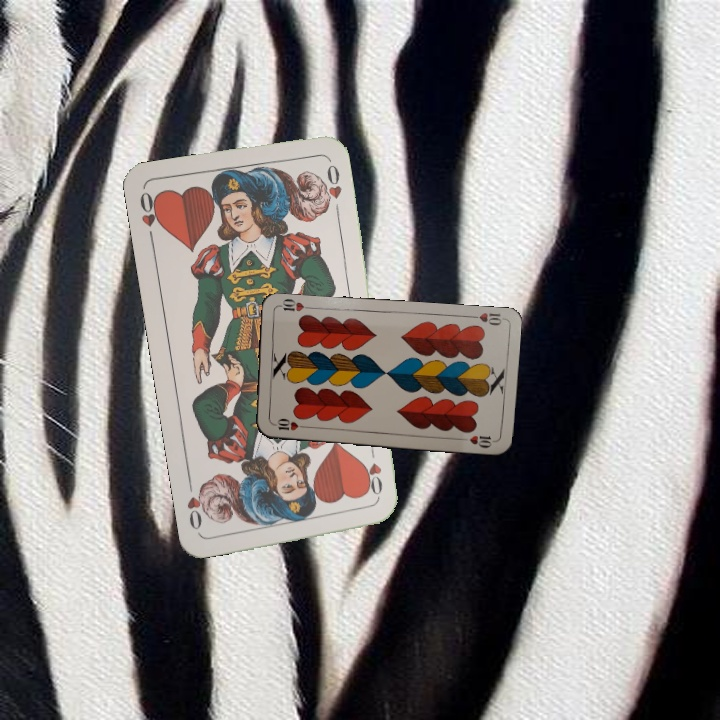H10: (465, 309, 506, 328), (269, 416, 309, 433)
HO: (135, 188, 164, 246), (363, 446, 385, 504)
